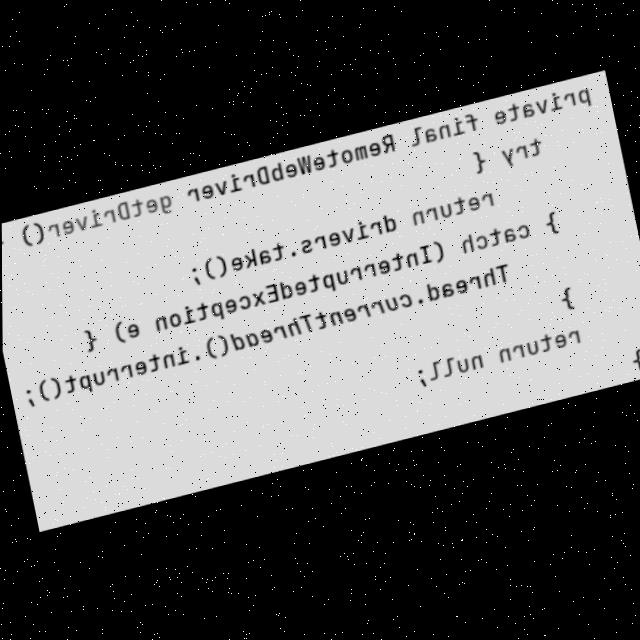code_screen: (2, 71, 640, 530)
